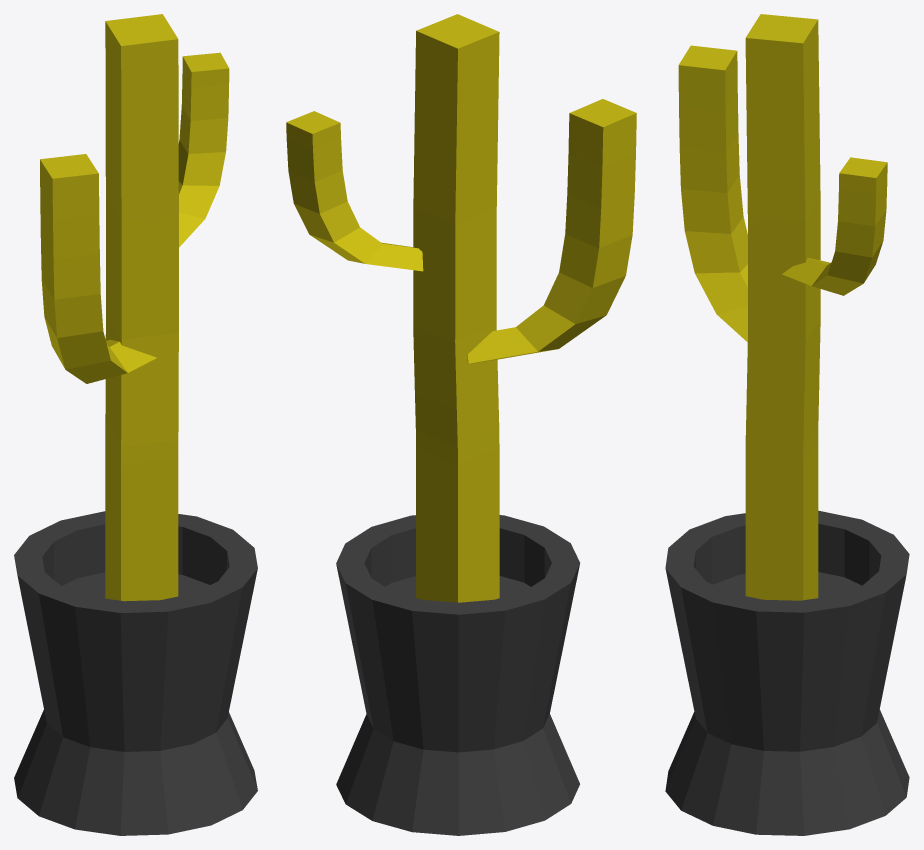
Rendered from cactus_grande_01_000017.obj.
3 views of the same model, side by side, from view 1: azimuth 30°, elevation 25°; view 2: azimuth 150°, elevation 25°; view 3: azimuth 270°, elevation 25° (orthographic).
Parts seen in each view (by area): view 1: Cylinder, NurbsPath.001, NurbsPath.002, NurbsPath.003; view 2: Cylinder, NurbsPath.001, NurbsPath.002, NurbsPath.003; view 3: Cylinder, NurbsPath.001, NurbsPath.002, NurbsPath.003.
Part boxes in pixels (x1,y1,x2,y2): Cylinder: (14,511,257,835); NurbsPath.001: (105,14,178,601); NurbsPath.002: (40,154,156,383); NurbsPath.003: (178,52,229,247); Cylinder: (336,515,579,835); NurbsPath.001: (413,14,499,602); NurbsPath.002: (467,99,636,363); NurbsPath.003: (286,111,423,271); Cylinder: (665,510,909,835); NurbsPath.001: (745,14,820,600); NurbsPath.002: (678,45,747,341); NurbsPath.003: (782,157,887,295).
Size of the model in its own units: 1.59 by 4.41 by 1.29.
